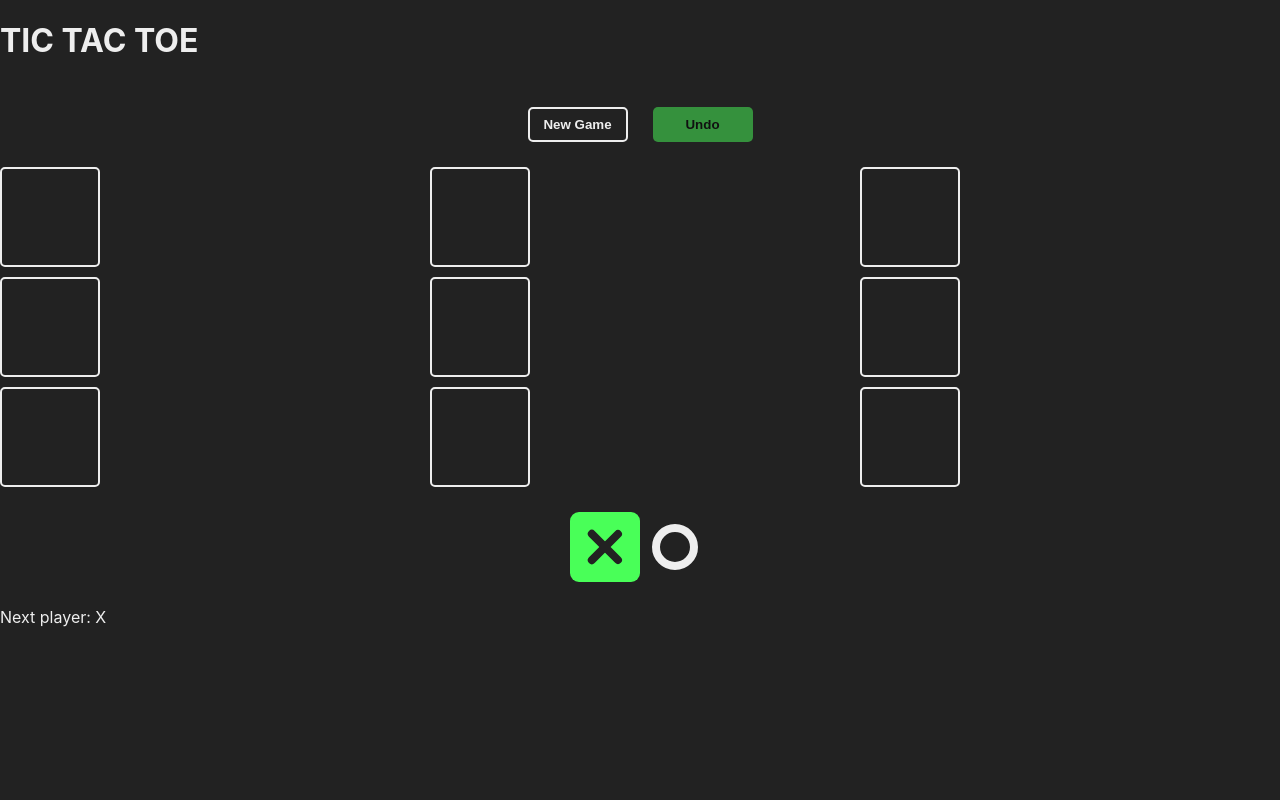
shows win banner for X
This screenshot has width=1280, height=800.
Click the element with test id "square-0". click: point(50, 217)
box: [0,167,100,267]
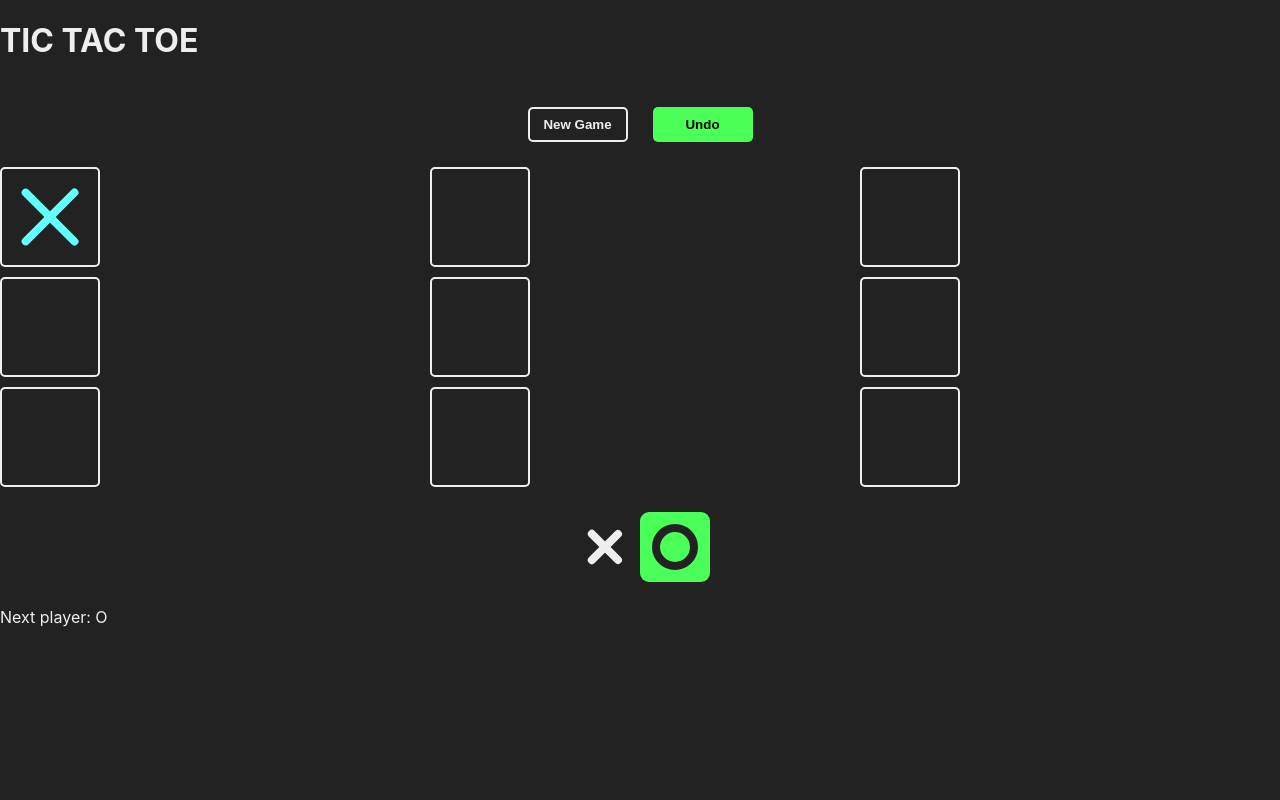
Click the element with test id "square-3". click: point(50, 327)
box: [0,277,100,377]
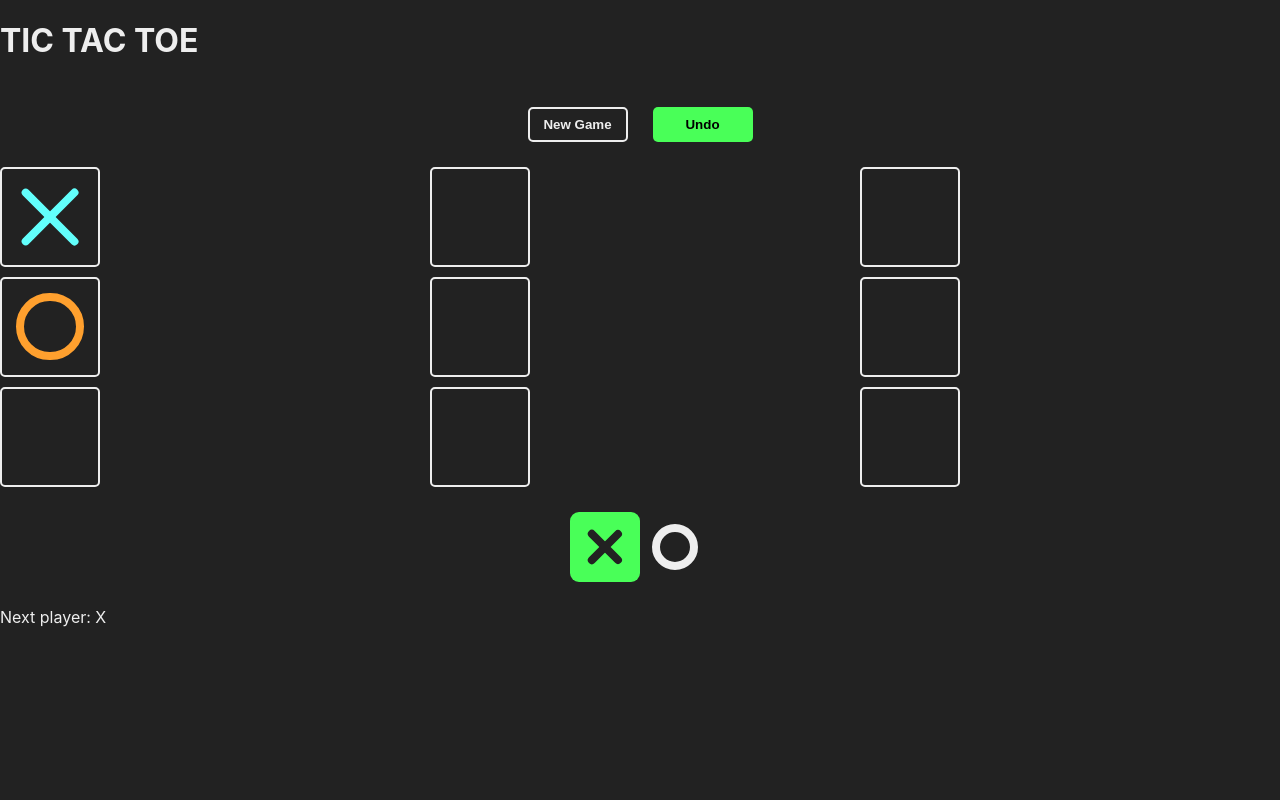
Click the element with test id "square-1". click: point(480, 217)
box: [430,167,530,267]
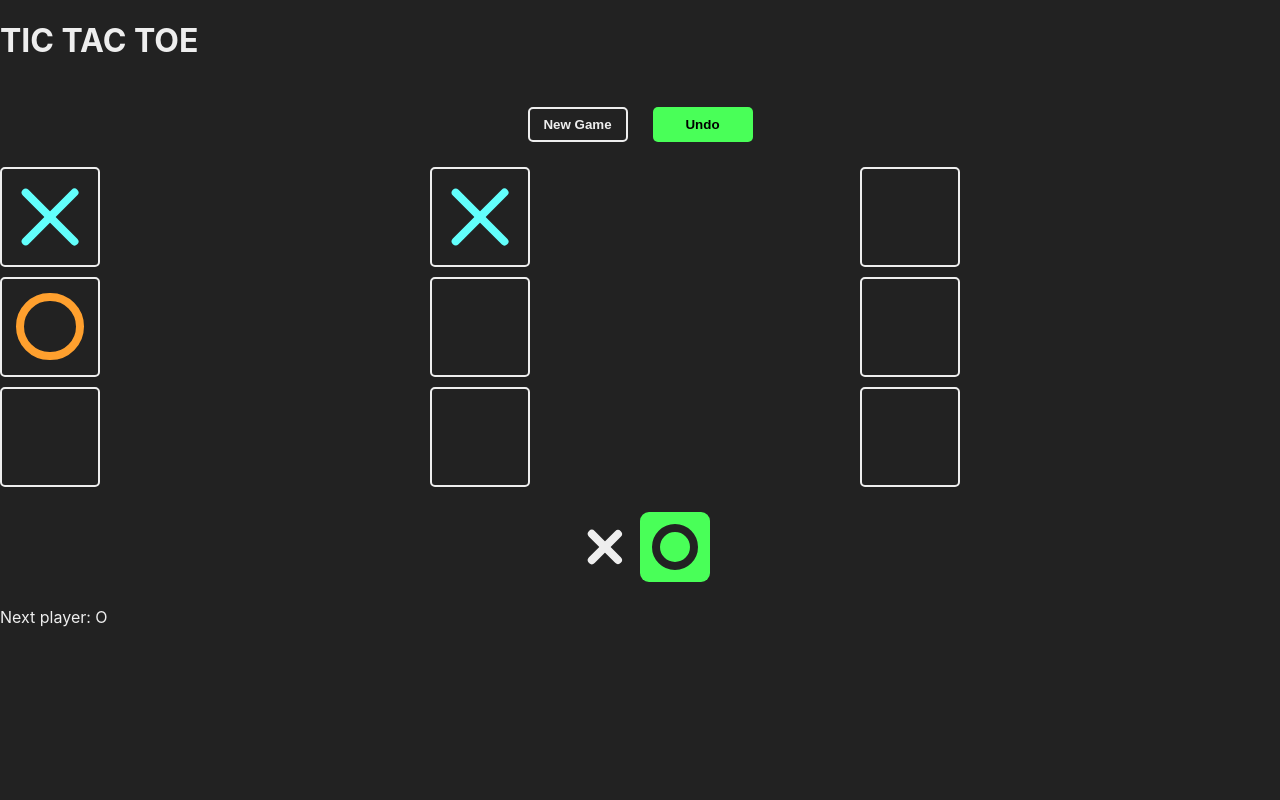
Click the element with test id "square-4". click: point(480, 327)
box: [430,277,530,377]
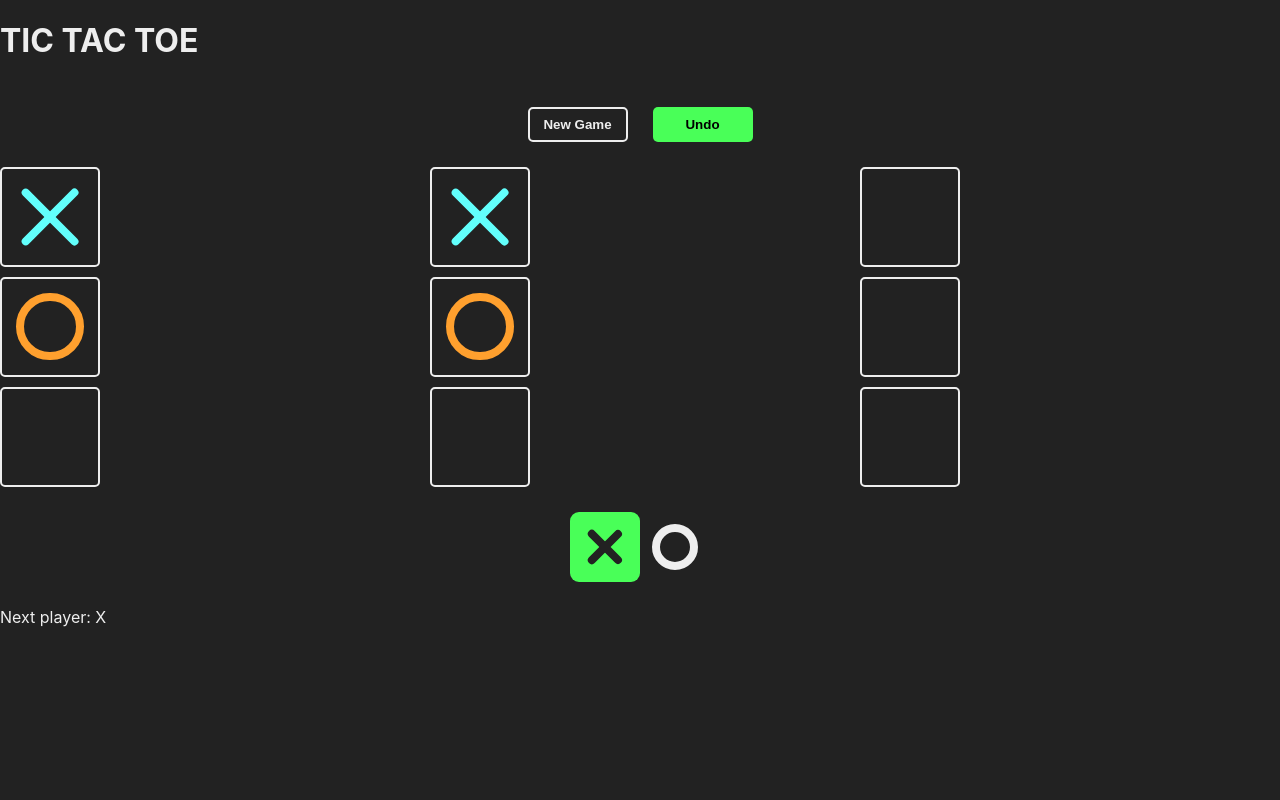
Click the element with test id "square-2". click: point(910, 217)
box: [860,167,960,267]
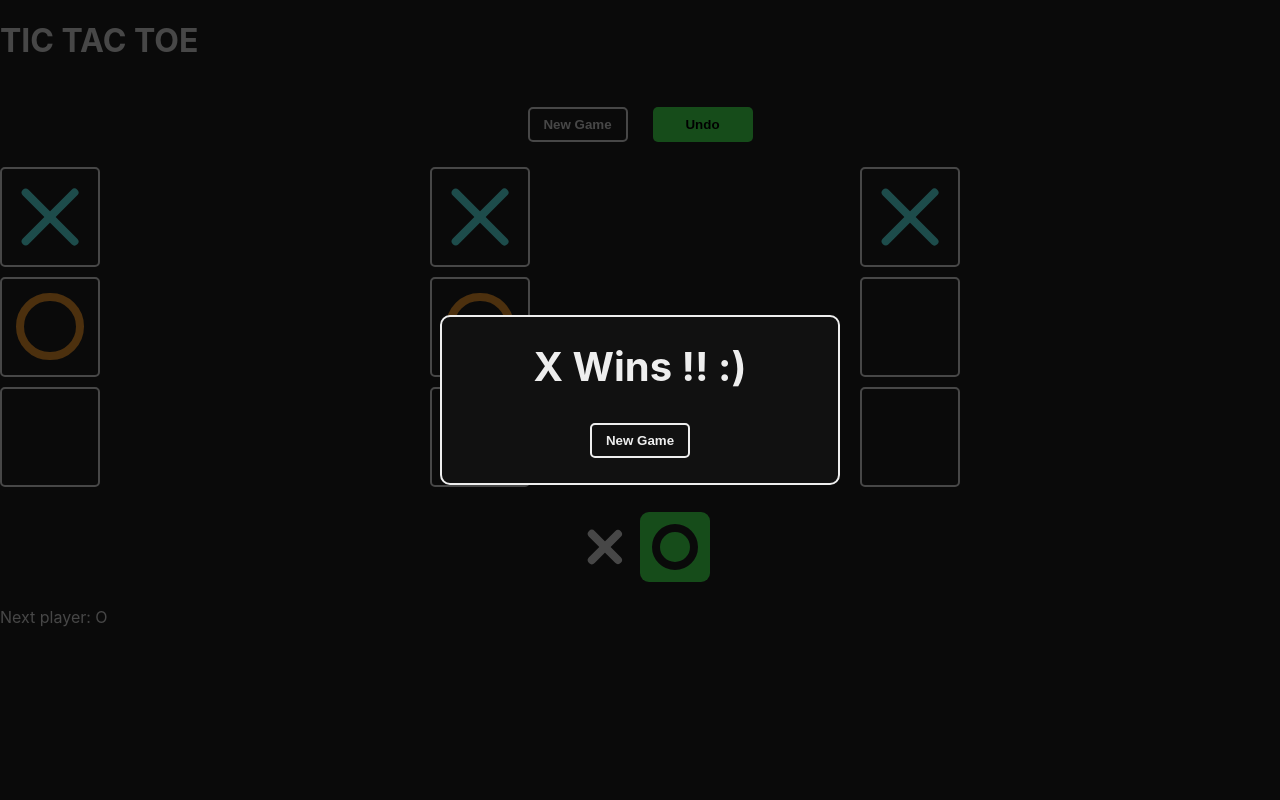
Now the heading "X Wins !! :)" is shown, box [534,342,747,391]
